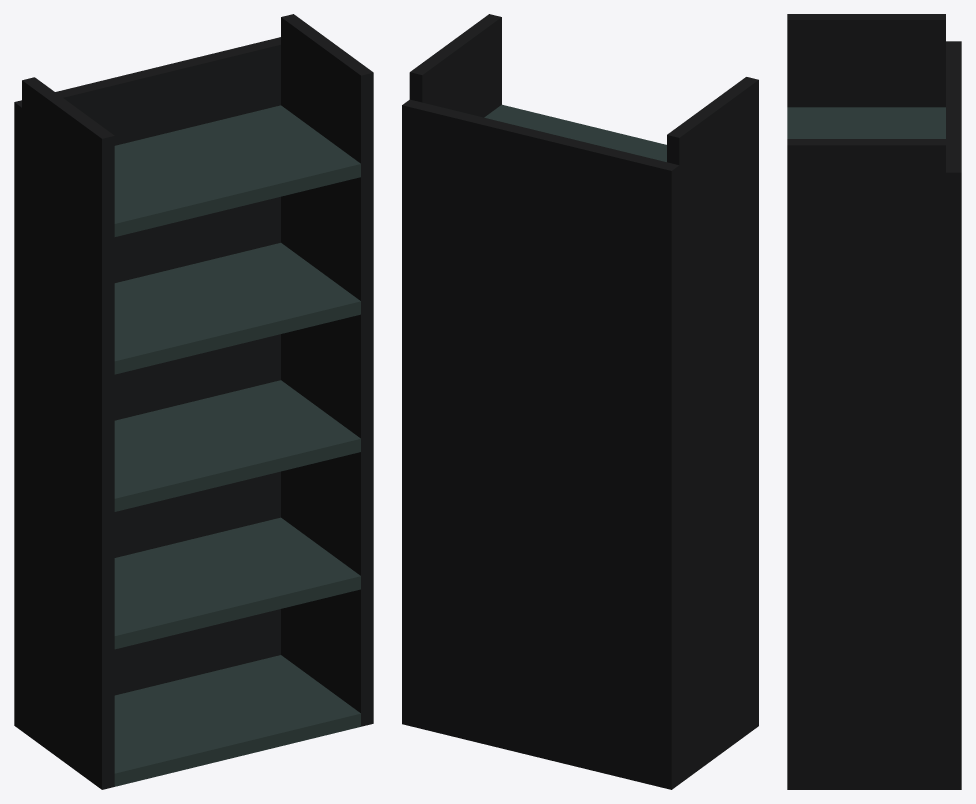
Rendered from Prop_Shelve_08.fbx.
3 renders of one model, left to right at view 1: azimuth 30°, elevation 25°; view 2: azimuth 150°, elevation 25°; view 3: azimuth 270°, elevation 25°, orthographic.
Visible parts, largest first — view 1: Prop_Shelve_08; view 2: Prop_Shelve_08; view 3: Prop_Shelve_08.
Boxes of the visible parts, x1=… form: Prop_Shelve_08: x1=14, y1=14, x2=373, y2=789; Prop_Shelve_08: x1=402, y1=14, x2=758, y2=789; Prop_Shelve_08: x1=787, y1=14, x2=961, y2=789.
Size of the model in its own units: 78.98 by 181 by 44.25.
